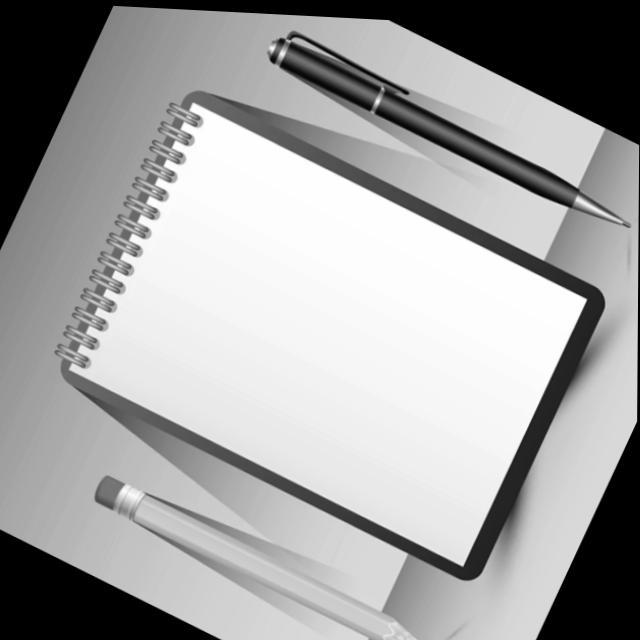pencil: (258, 18, 634, 234), (86, 466, 436, 640)
